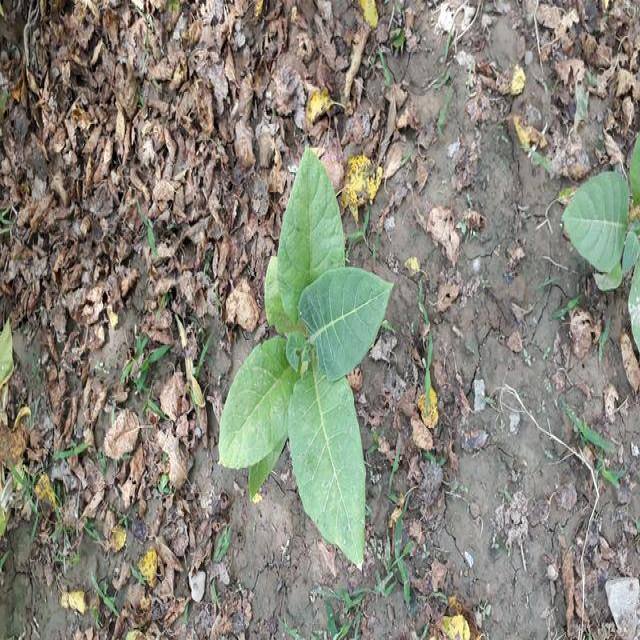crop: (223, 156, 395, 563), (571, 139, 640, 347)
